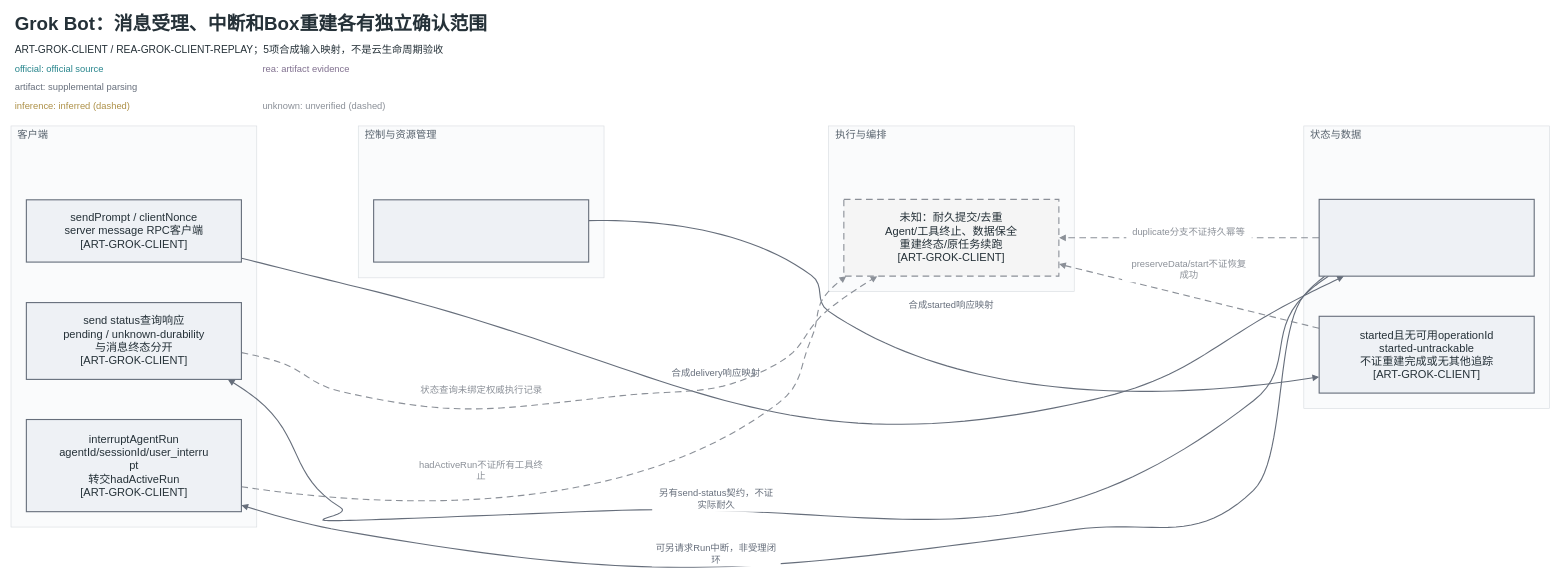
The diagram is 1561 pixels wide and 584 high, and some of its shapes have lost their labels. The shapes that lost their labels are listed below. From the top down, each one's centre as x and y in pixels, then its label:
At pixel 481 230: "Box recreate请求 preserveData意图 / force:false [ART-GROK-CLIENT]".
At pixel 1426 237: "BOX/TEMPORAL/DUPLICATE 映射accepted:true 不是持久收据或执行完成 [ART-GROK-CLIENT]".
